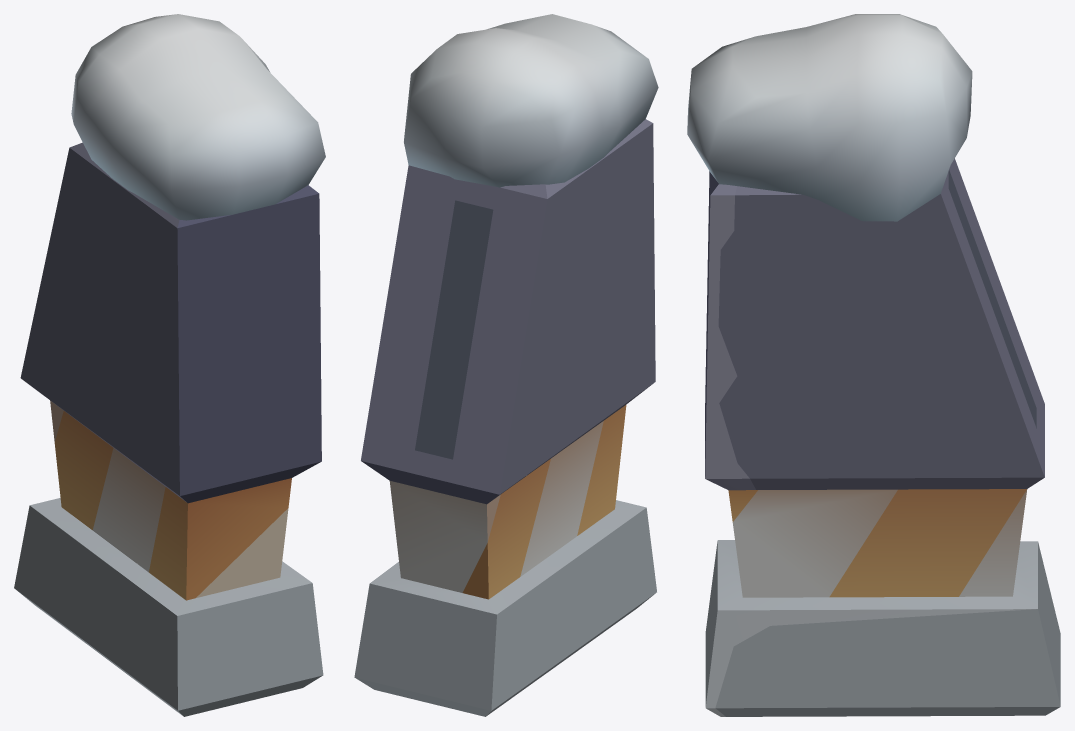
Rendered from TubeElevatorConsole.glb.
The picture shows the model from 3 angles, left to right: view 1: azimuth 30°, elevation 25°; view 2: azimuth 150°, elevation 25°; view 3: azimuth 270°, elevation 25°; orthographic projection. The views are drawn at different scales.
Visible parts, largest first — view 1: TubeElevatorConsole; view 2: TubeElevatorConsole; view 3: TubeElevatorConsole.
Part boxes in pixels (x1=…): TubeElevatorConsole: x1=14, y1=14, x2=325, y2=716; TubeElevatorConsole: x1=354, y1=14, x2=658, y2=716; TubeElevatorConsole: x1=687, y1=14, x2=1060, y2=716.
Bounding box in the file's own units: 0.4599 × 1.52 × 0.777.
